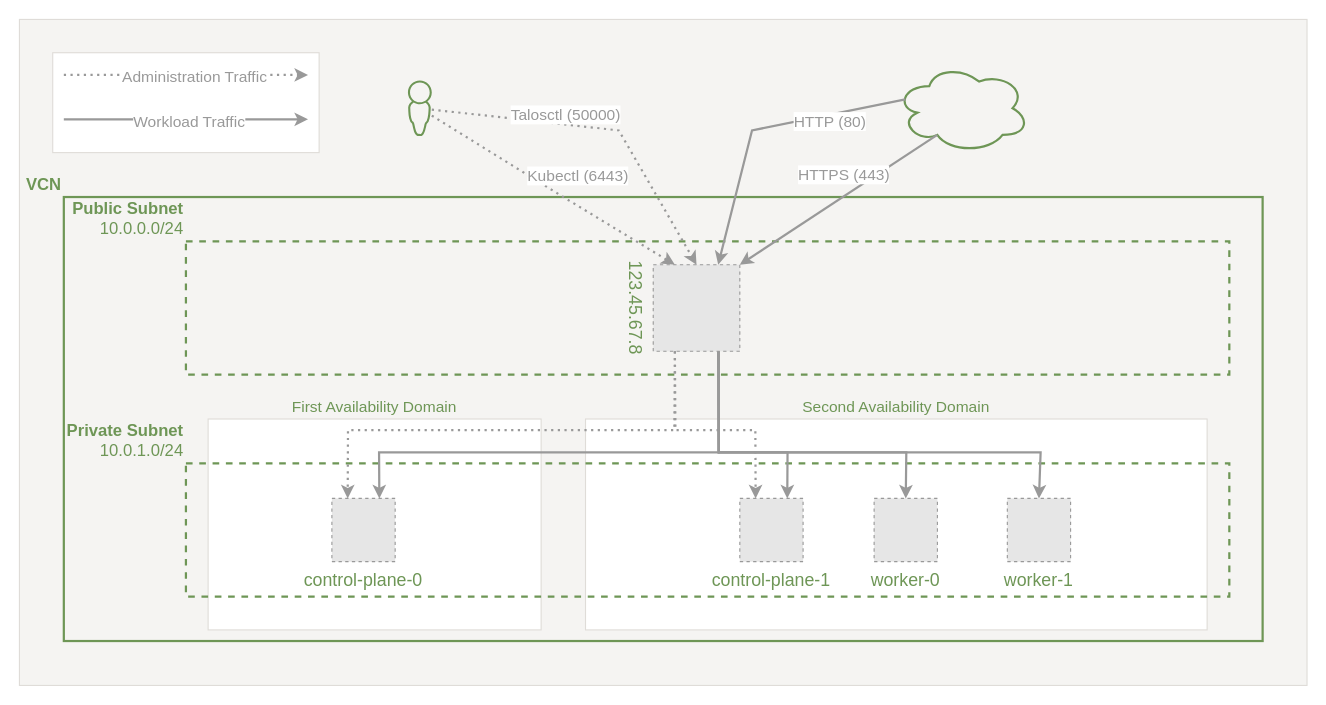
Some shapes in this 1326 by 705 pixel diagram are drawn without their labels. Grey dashed boxes stand in for pictures. Here are the shapes that lost their labels. From the top down, the centre of each, then its label:
At (x=185, y=102): "Key".
At (x=419, y=107): "Cluster Administrator".
At (x=962, y=107): "Internet".
